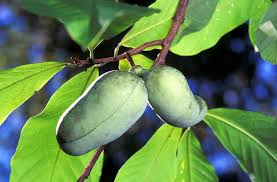papaya: (55, 72, 150, 159), (142, 66, 208, 128)
